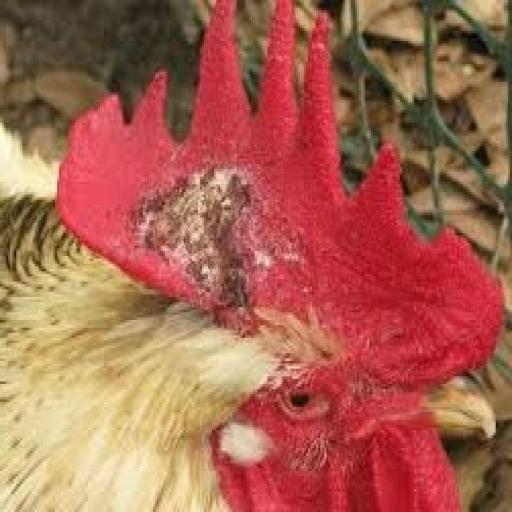disease: (110, 131, 317, 328)
